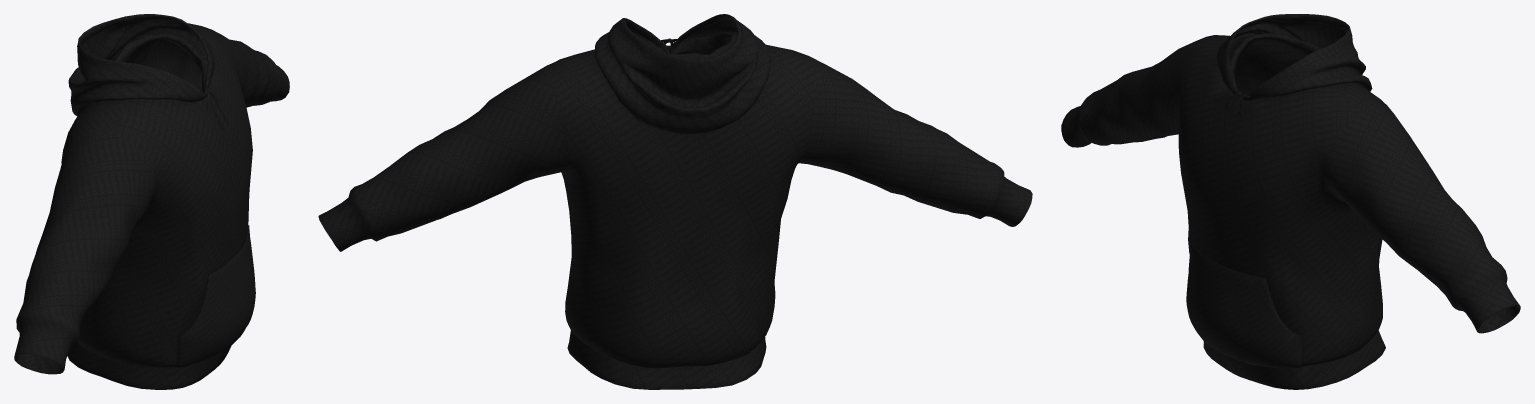
The model's file is hoodie.glb.
The picture shows the model from 3 angles, left to right: view 1: azimuth 30°, elevation 25°; view 2: azimuth 150°, elevation 25°; view 3: azimuth 270°, elevation 25°; orthographic projection. The views are drawn at different scales.
Visible parts, largest first — view 1: polySurface11; view 2: polySurface11; view 3: polySurface11.
Part boxes in pixels (x1=…): polySurface11: x1=14, y1=14, x2=289, y2=389; polySurface11: x1=318, y1=14, x2=1032, y2=389; polySurface11: x1=1061, y1=14, x2=1520, y2=389.
Bounding box in the file's own units: 0.9241 × 0.6035 × 0.7835.
Materials: 1 (1 with a texture image).
